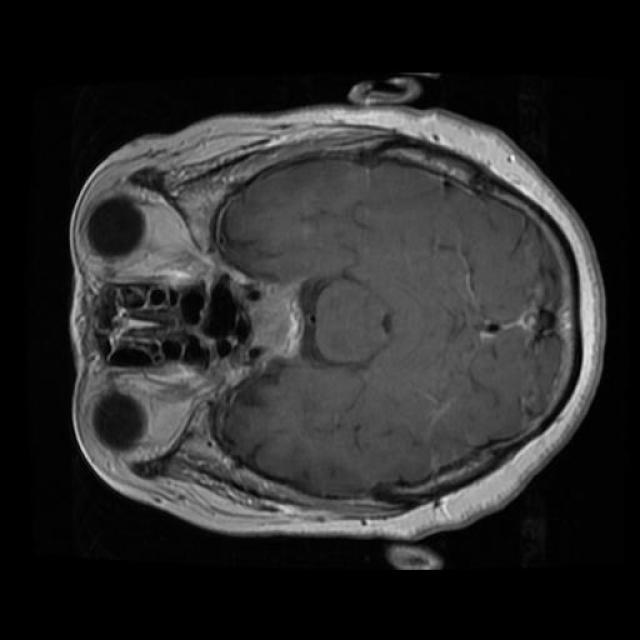Pituitary: (245, 280, 311, 371)
